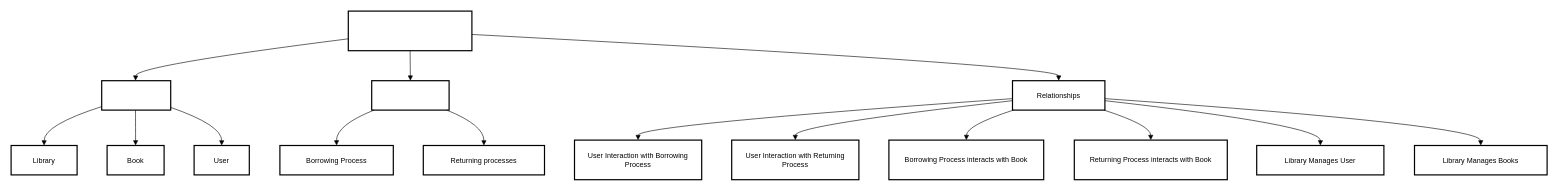
This 1558x190 diagram has some shape labels left out. The centre of each missing label's shape, as x and y in pixels:
"Entities" goes at pixel 136 95.
"Library Management System" goes at pixel 409 30.
"processes" goes at pixel 410 95.
